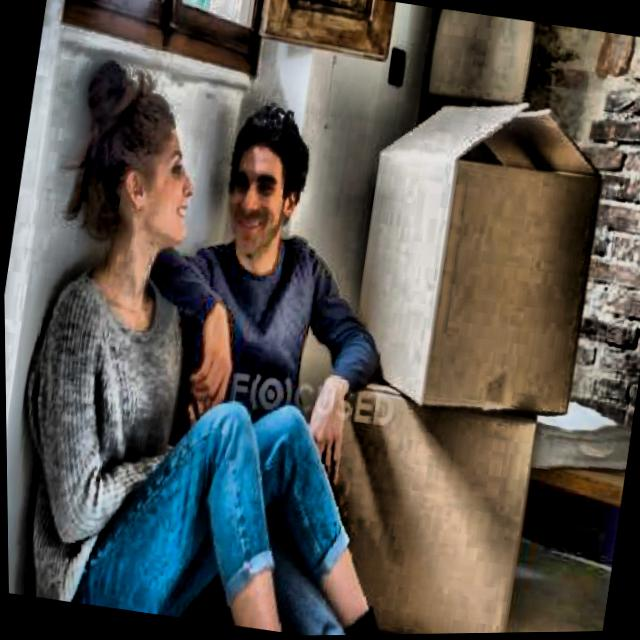Cardbox: (328, 69, 640, 442)
